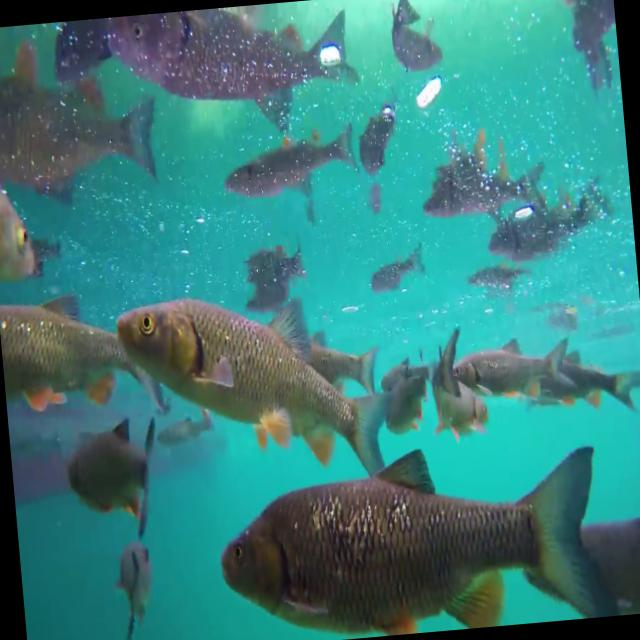fish: (204, 407, 615, 640), (108, 264, 410, 511), (99, 0, 368, 147), (0, 257, 154, 420), (55, 392, 169, 541), (210, 113, 366, 218), (406, 140, 548, 232), (475, 176, 612, 262), (454, 319, 582, 408), (90, 535, 181, 640), (0, 136, 58, 295), (549, 326, 640, 418), (428, 316, 488, 432), (378, 0, 457, 79), (358, 230, 438, 300), (461, 248, 539, 293)
